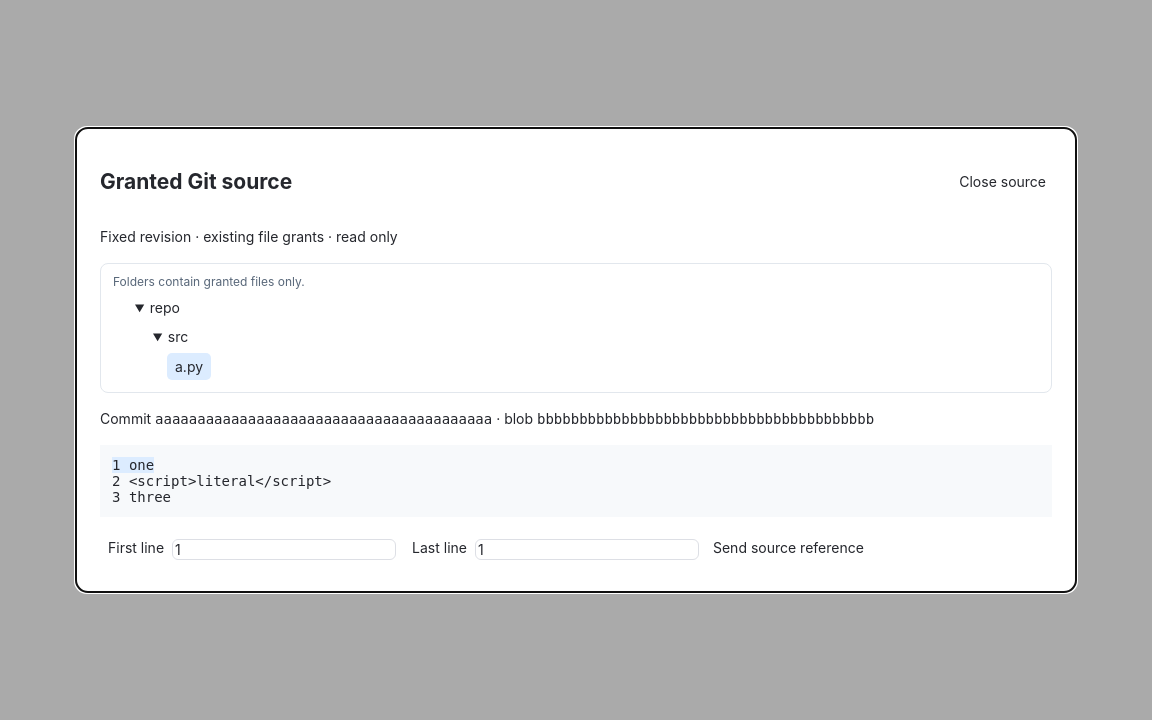
Scenario: preserves literal code and shares the selected immutable source lines
Expected: the text "<script>literal</script>" is shown, [129,473,331,489]
Expected: the number of elements with class "source-line" is 3, [112,457,154,473]; [112,473,331,489]; [112,489,171,505]
Replace the text in the number field labelled "First line" with "2" at (284, 550), box [172,539,396,560]
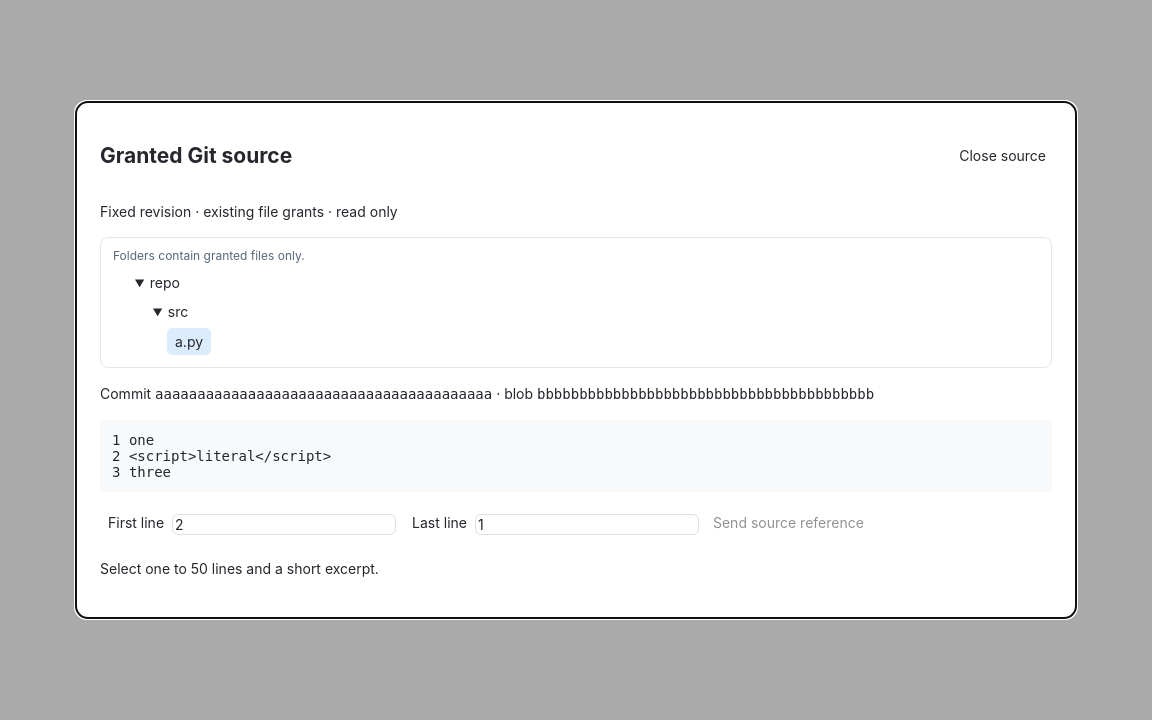
Replace the text in the number field labelled "Last line" with "3" at (587, 524), box [475,514,699,535]
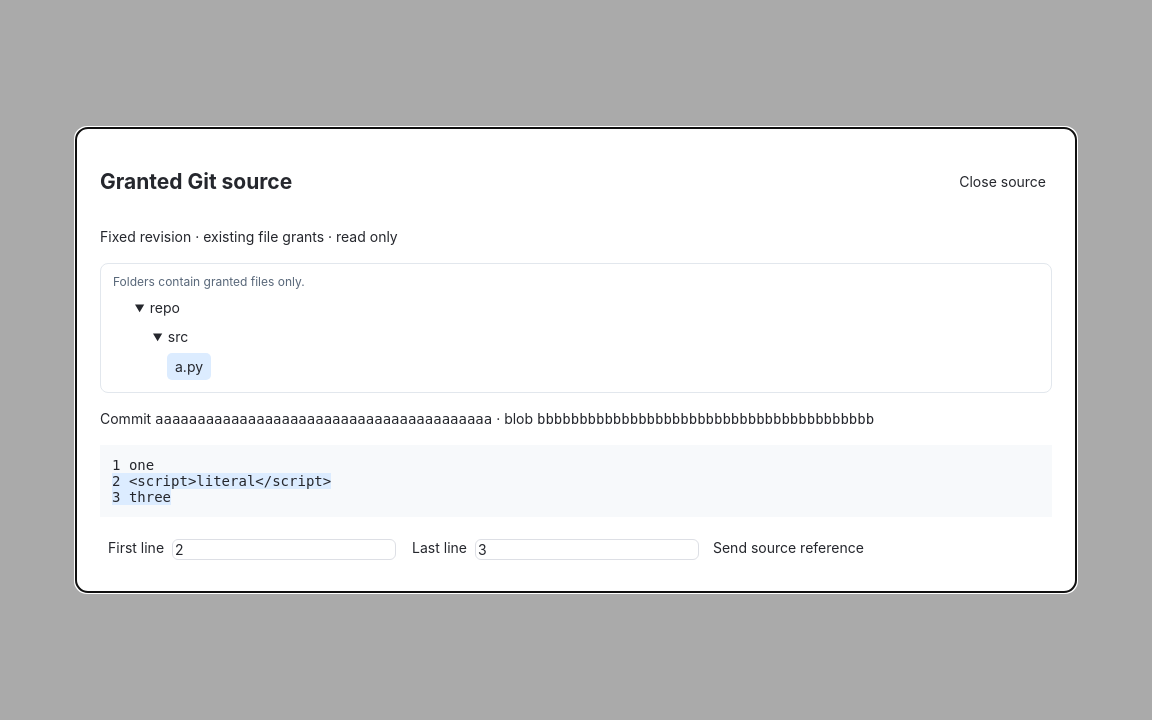
Click the button "Send source reference".
click(788, 548)  # box [707,538,870,557]
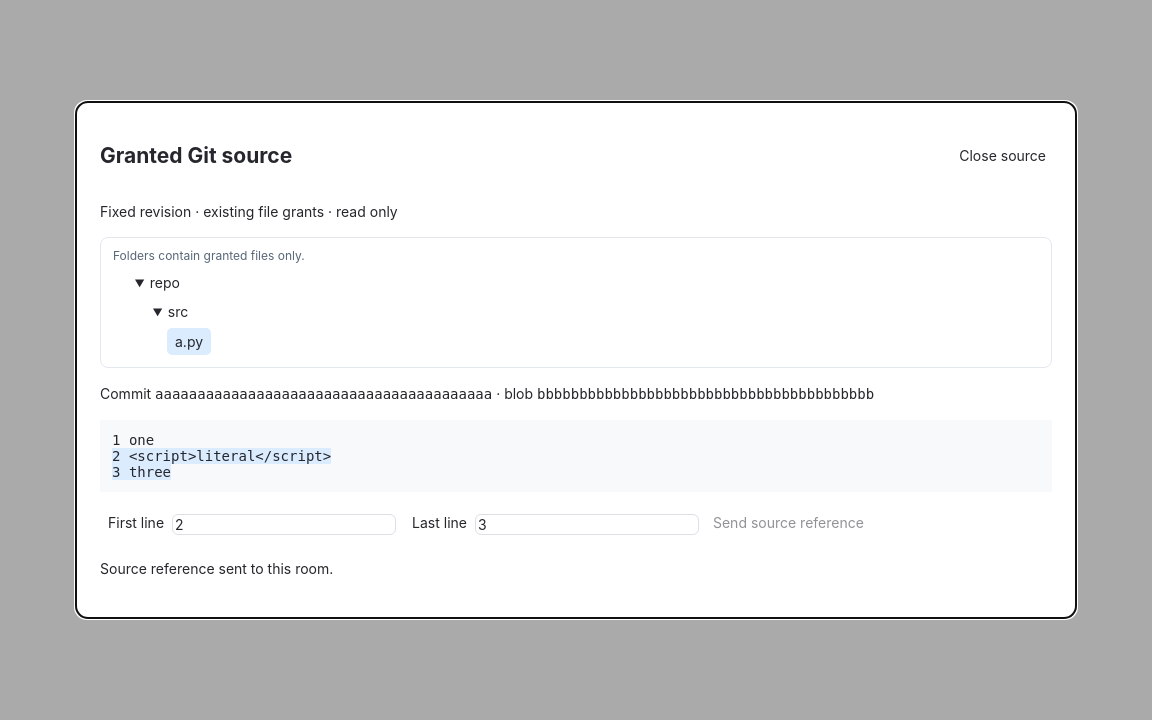
Expected: the text "Source reference sent to this room." is shown, [100,560,333,577]
